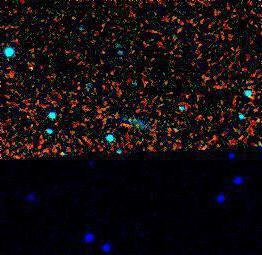star: (0, 37, 25, 67)
